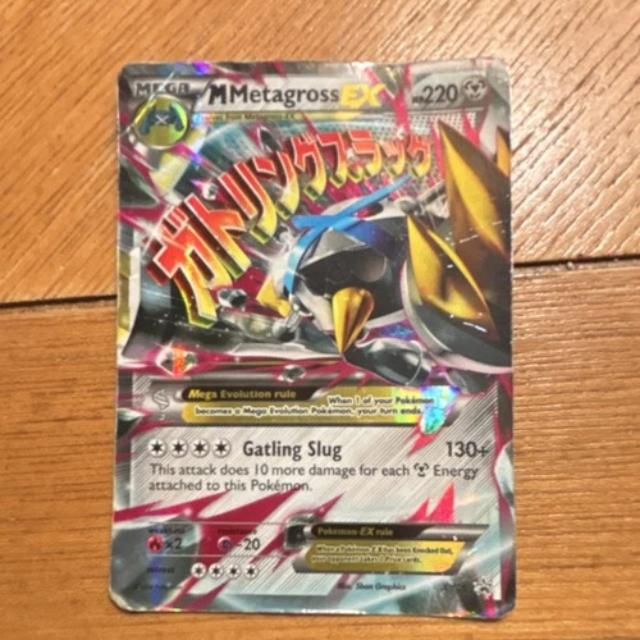Card: (100, 49, 523, 624)
Name: (199, 75, 390, 112)
